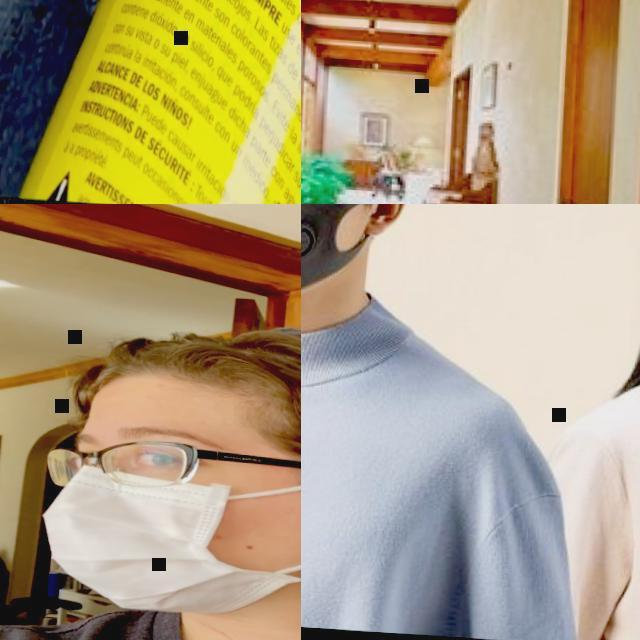mask: (35, 463, 301, 629), (301, 204, 380, 308)
no_helmet: (93, 306, 301, 460)
no_vest: (301, 324, 471, 638)
person: (301, 204, 615, 640), (0, 293, 301, 640), (530, 204, 640, 640)
